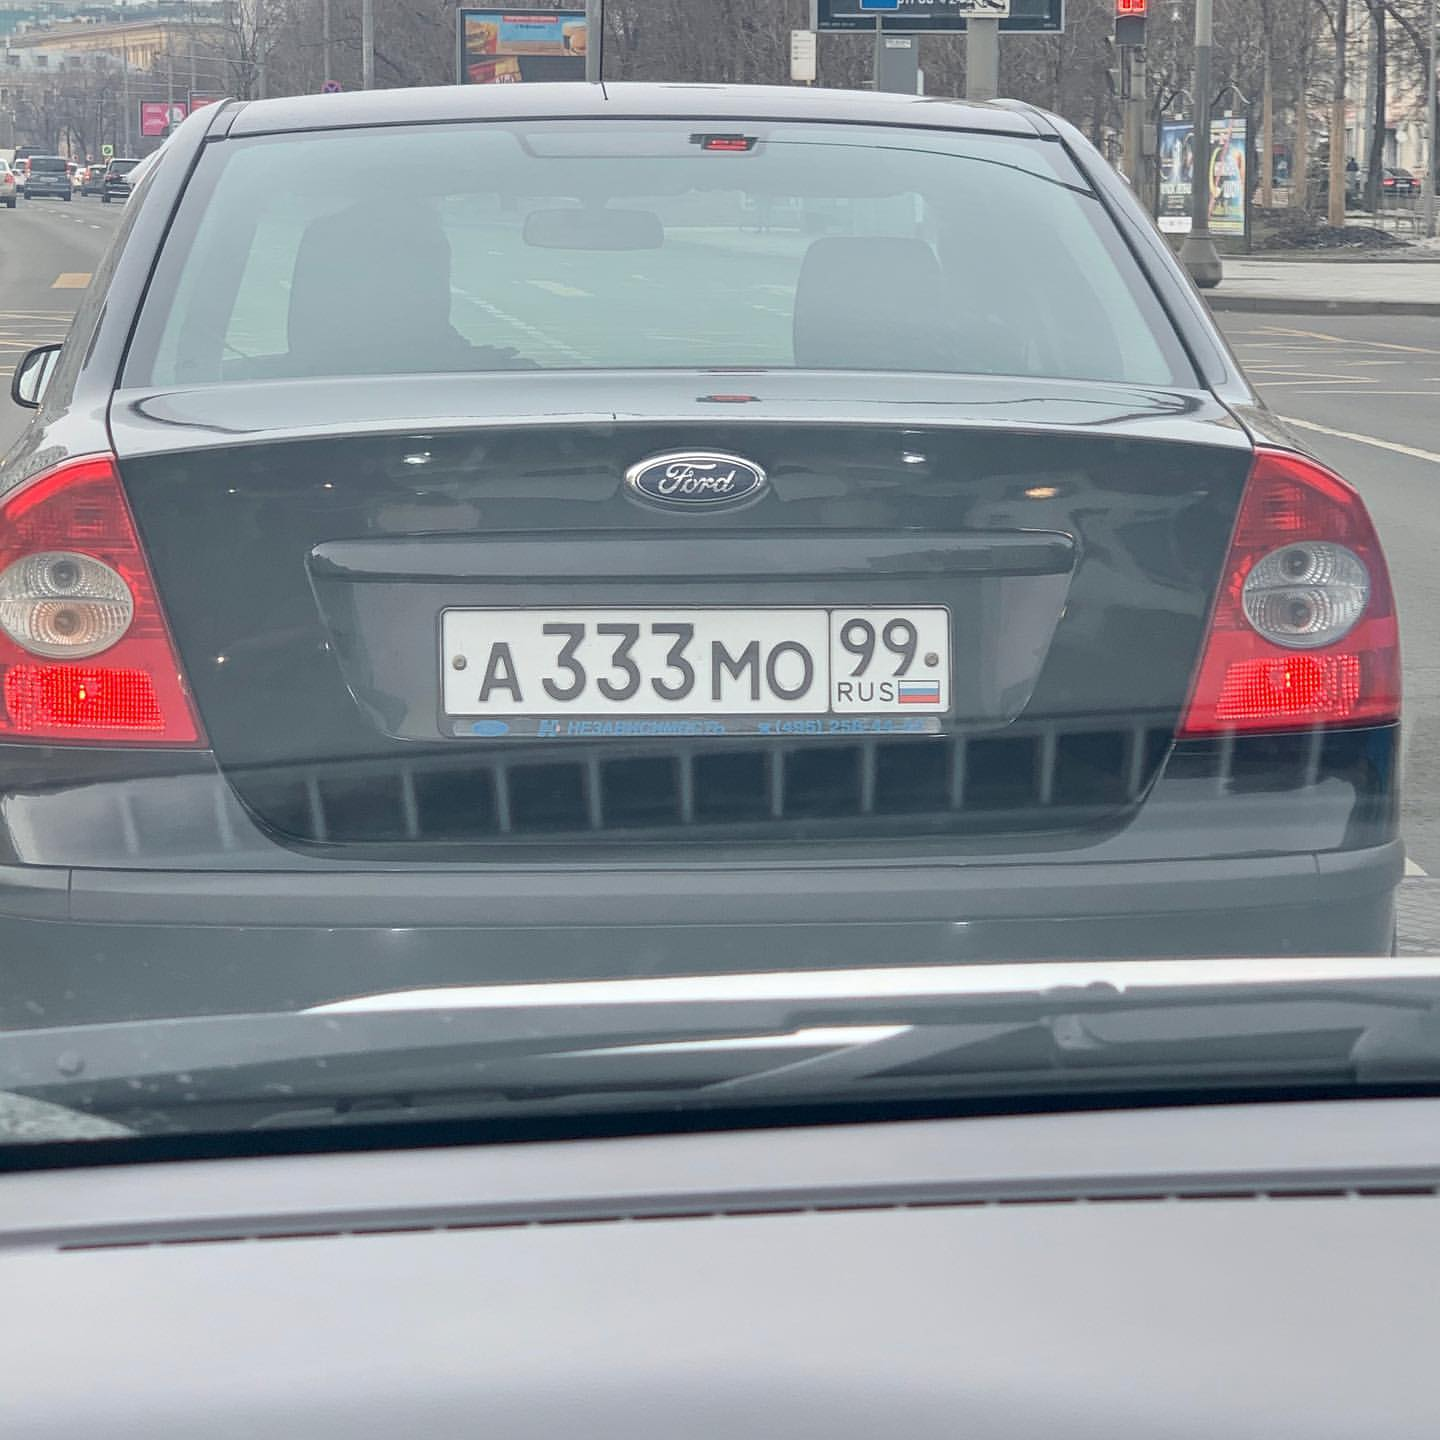number_plate: (429, 584, 940, 737)
